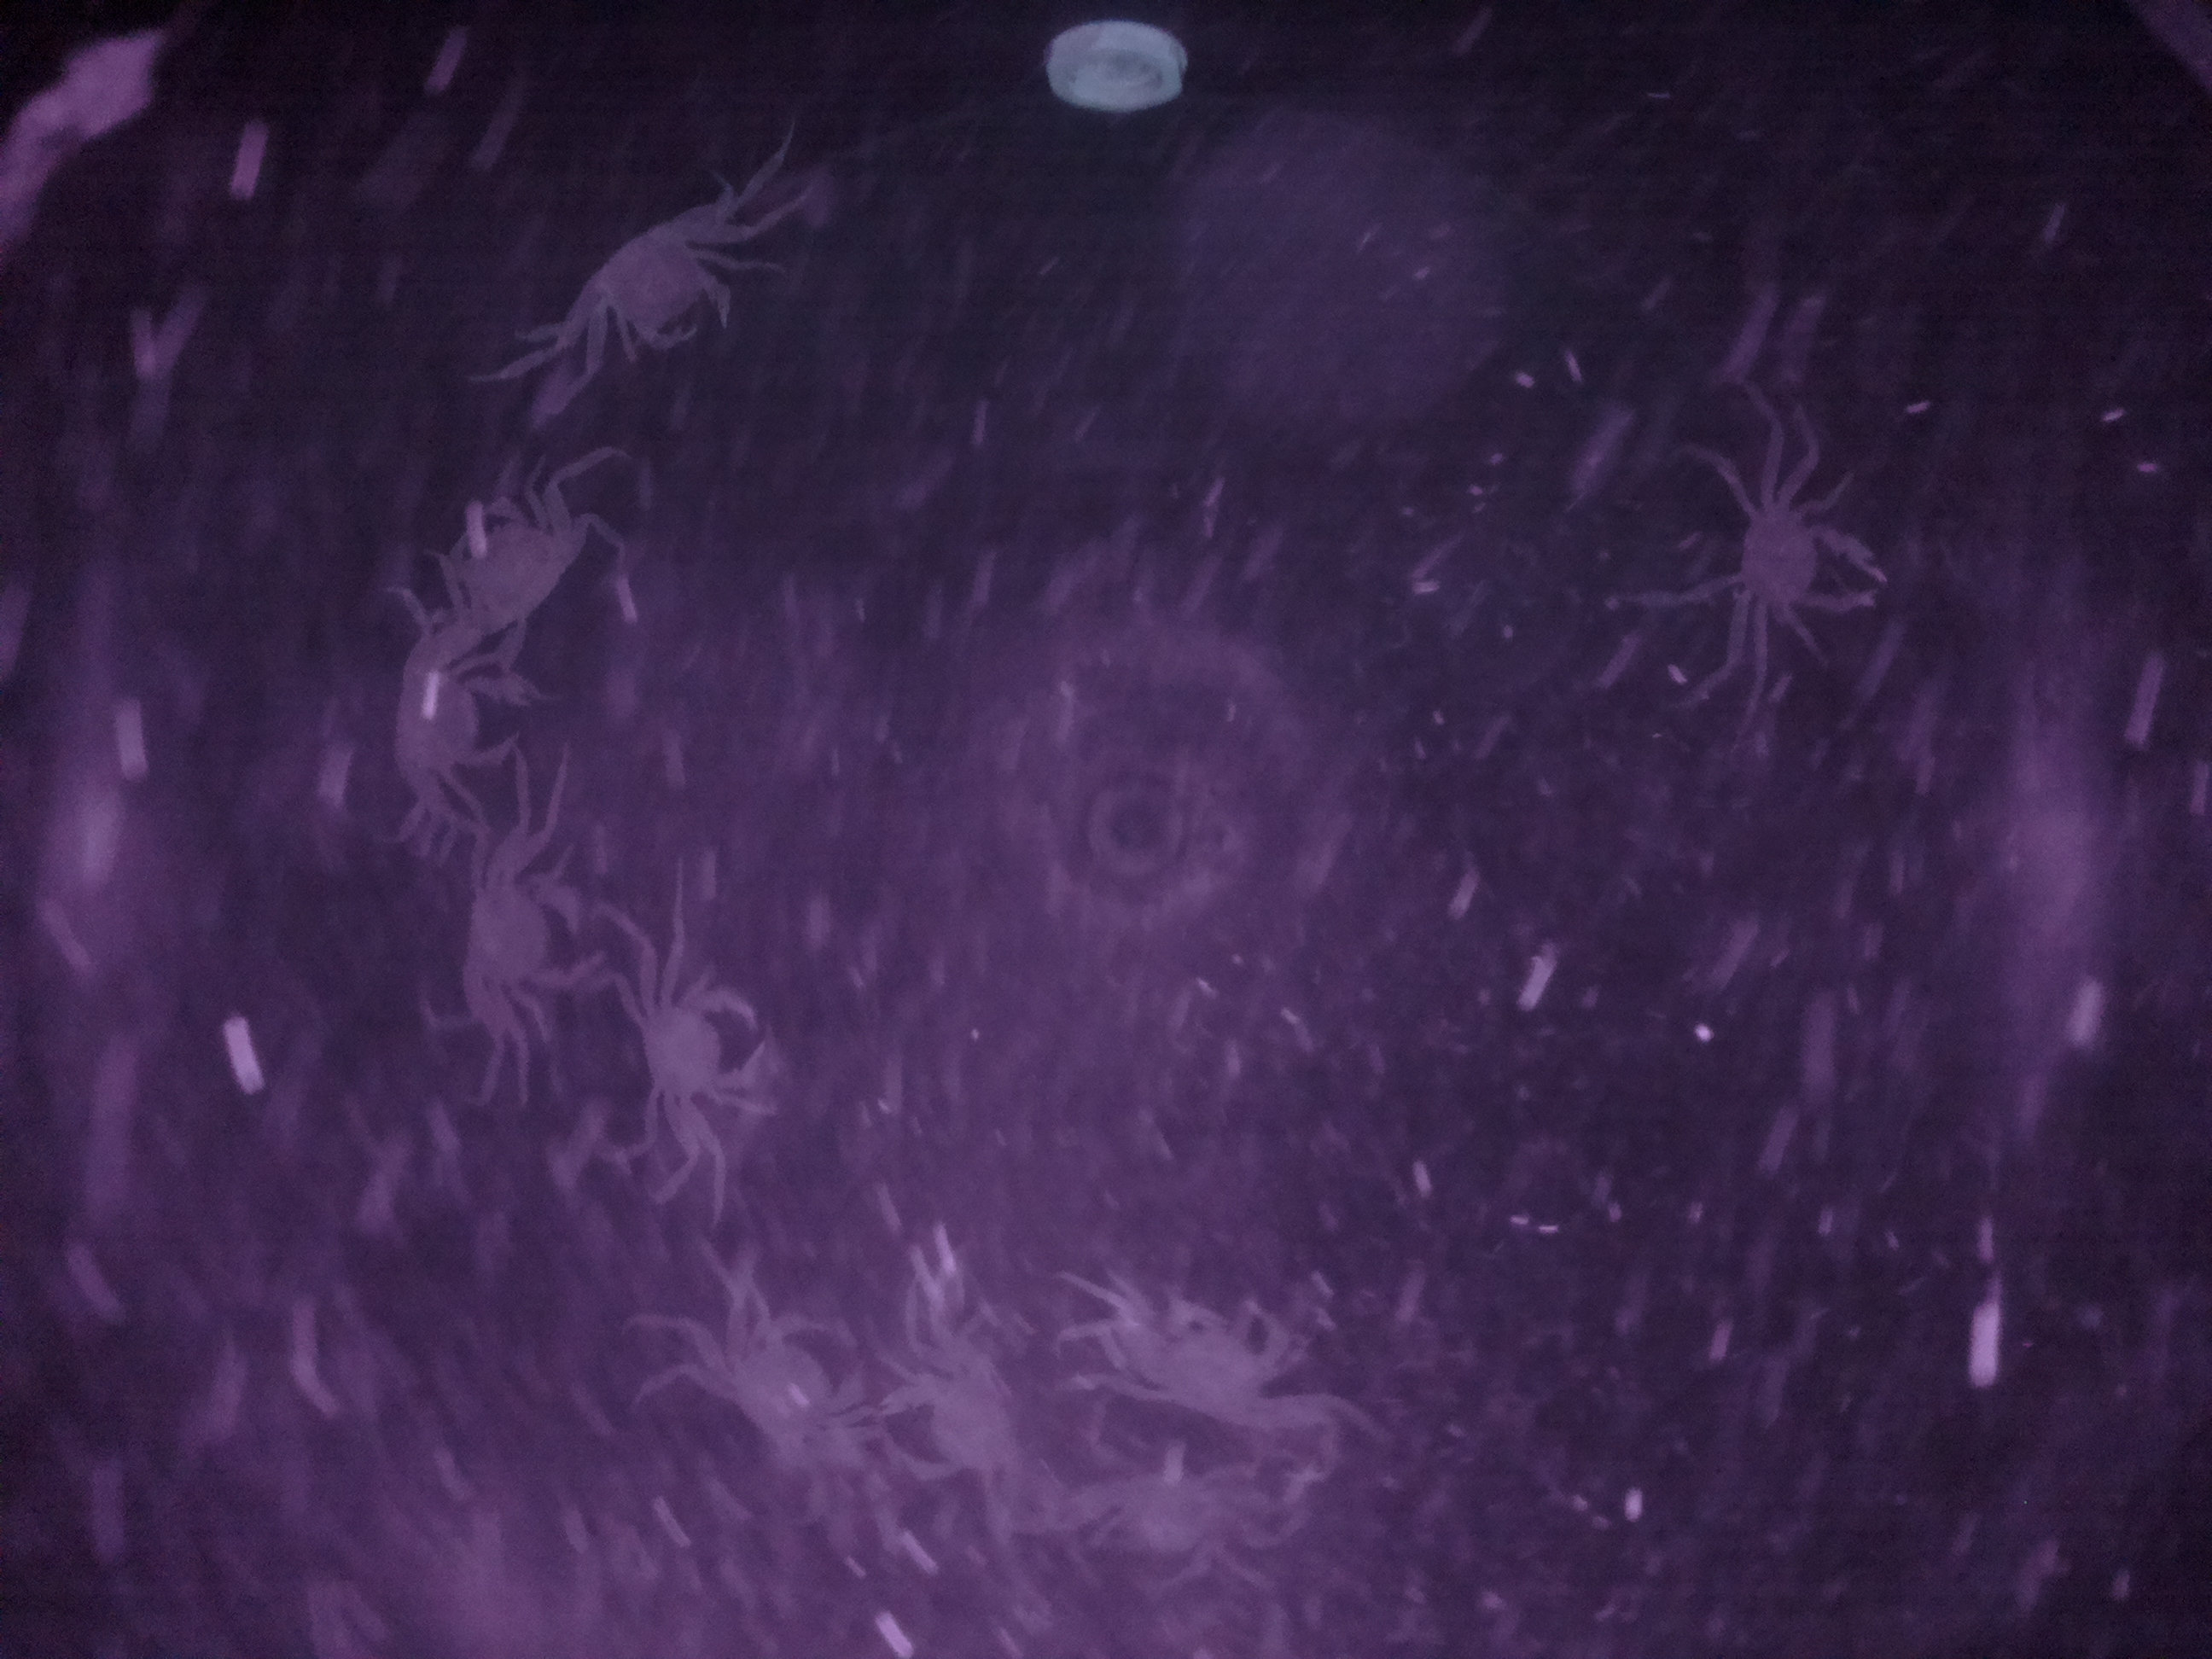Crab: (547, 181, 765, 390), (1688, 471, 1902, 650), (418, 840, 603, 1047), (606, 945, 792, 1136), (378, 622, 550, 824)
